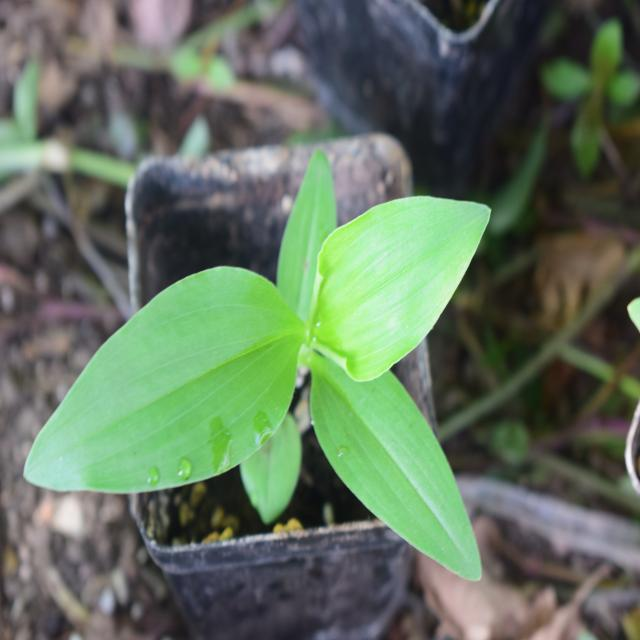Common Dayflower: (28, 187, 499, 586)
